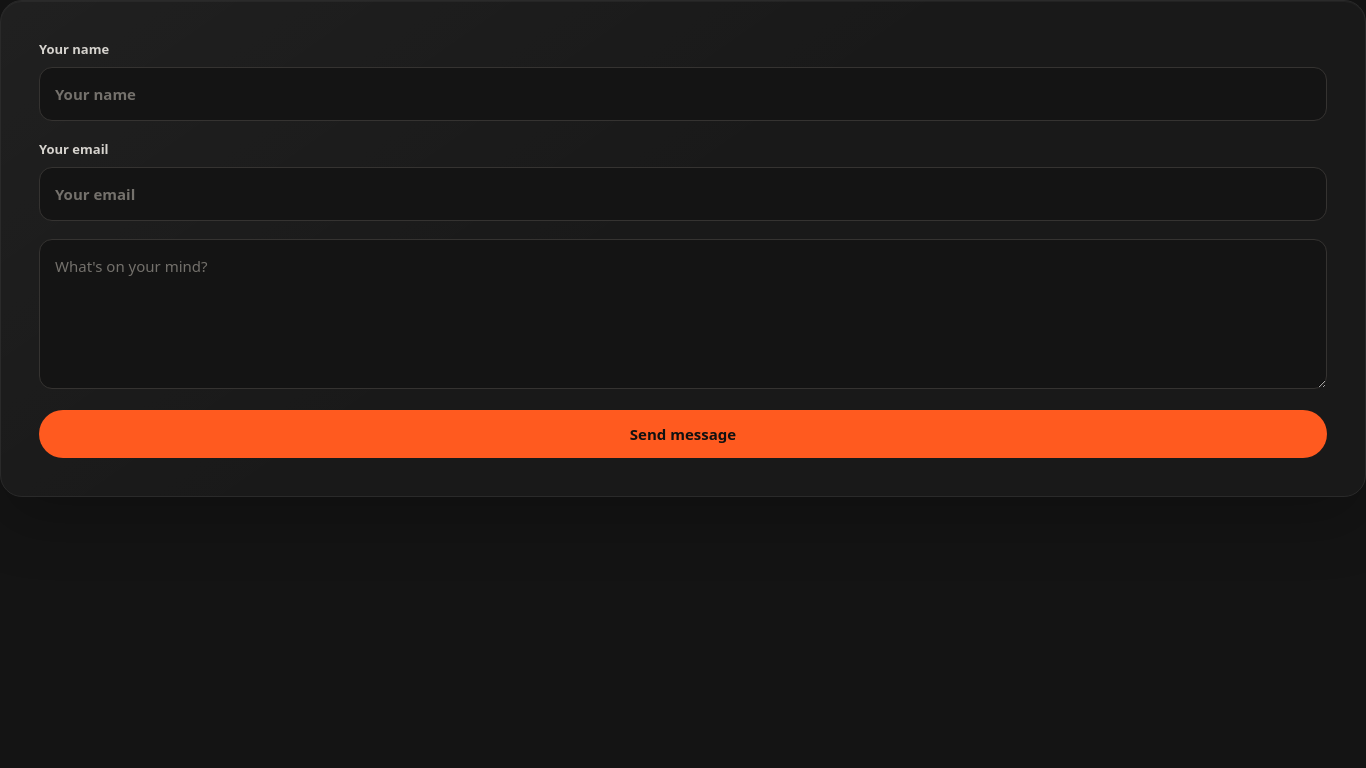
it: ContactForm › shows a failure when the message could not be saved
Type "Ada" into the field with placeholder "Your name" at (683,94), box x1=39 y1=67 x2=1327 y2=121
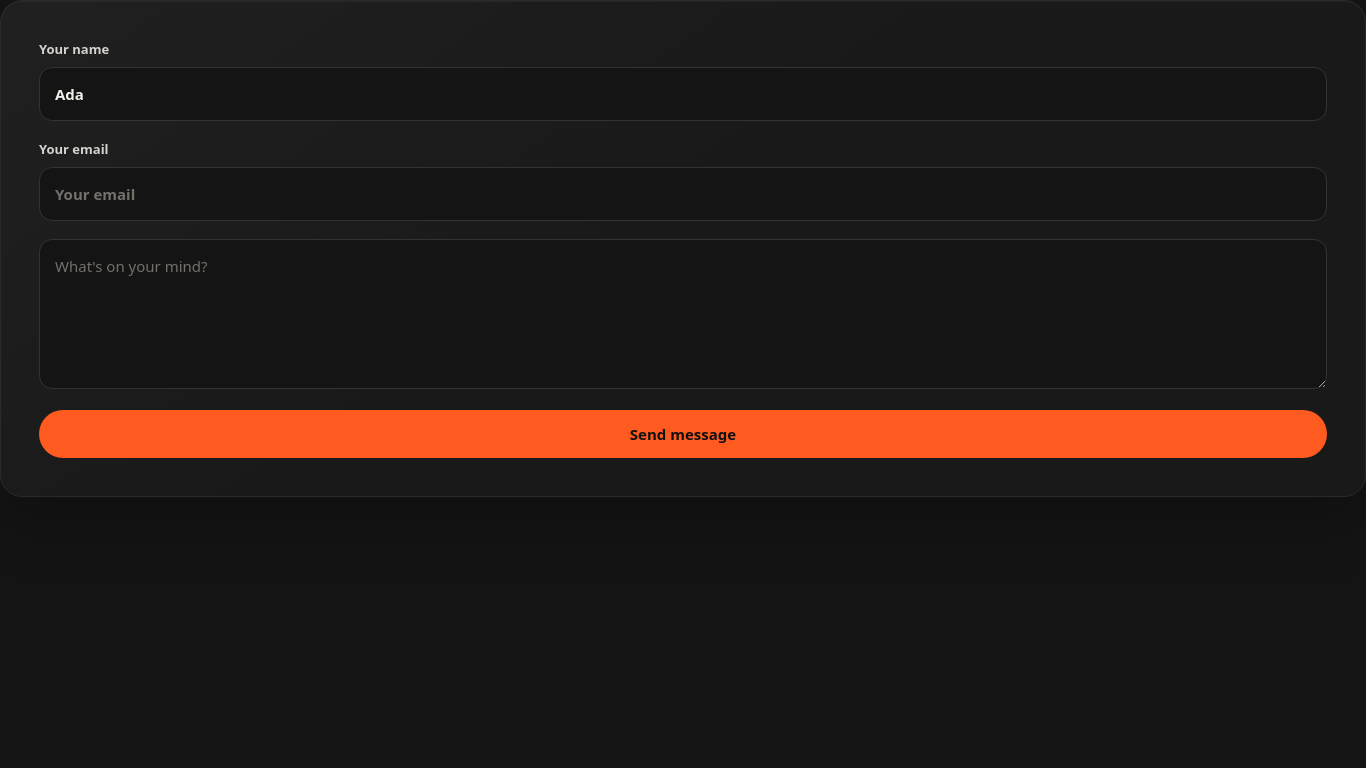
Type "ada@example.com" into the field with placeholder "Your email" at (683,194), box x1=39 y1=167 x2=1327 y2=221
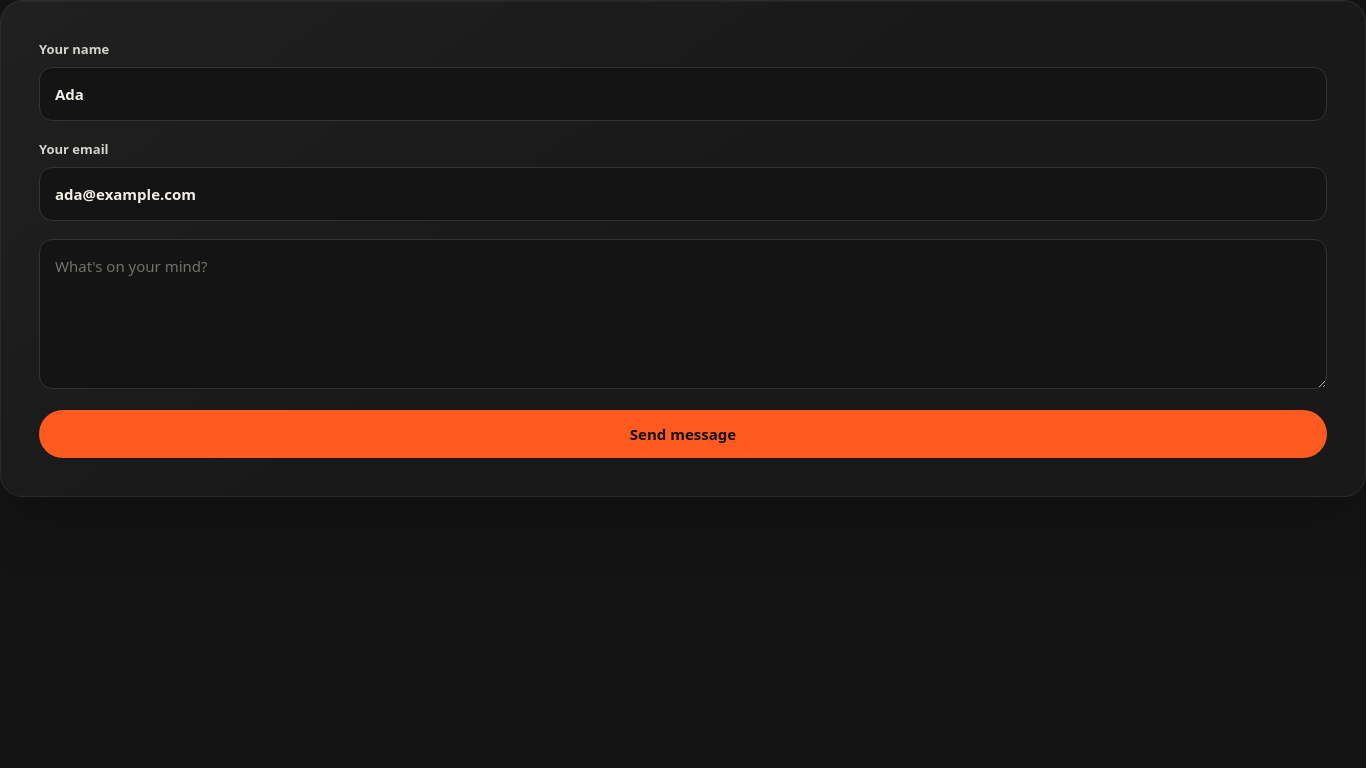
Type "Hello" into the text box with placeholder "What's on your mind?" at (683,314), box x1=39 y1=239 x2=1327 y2=389
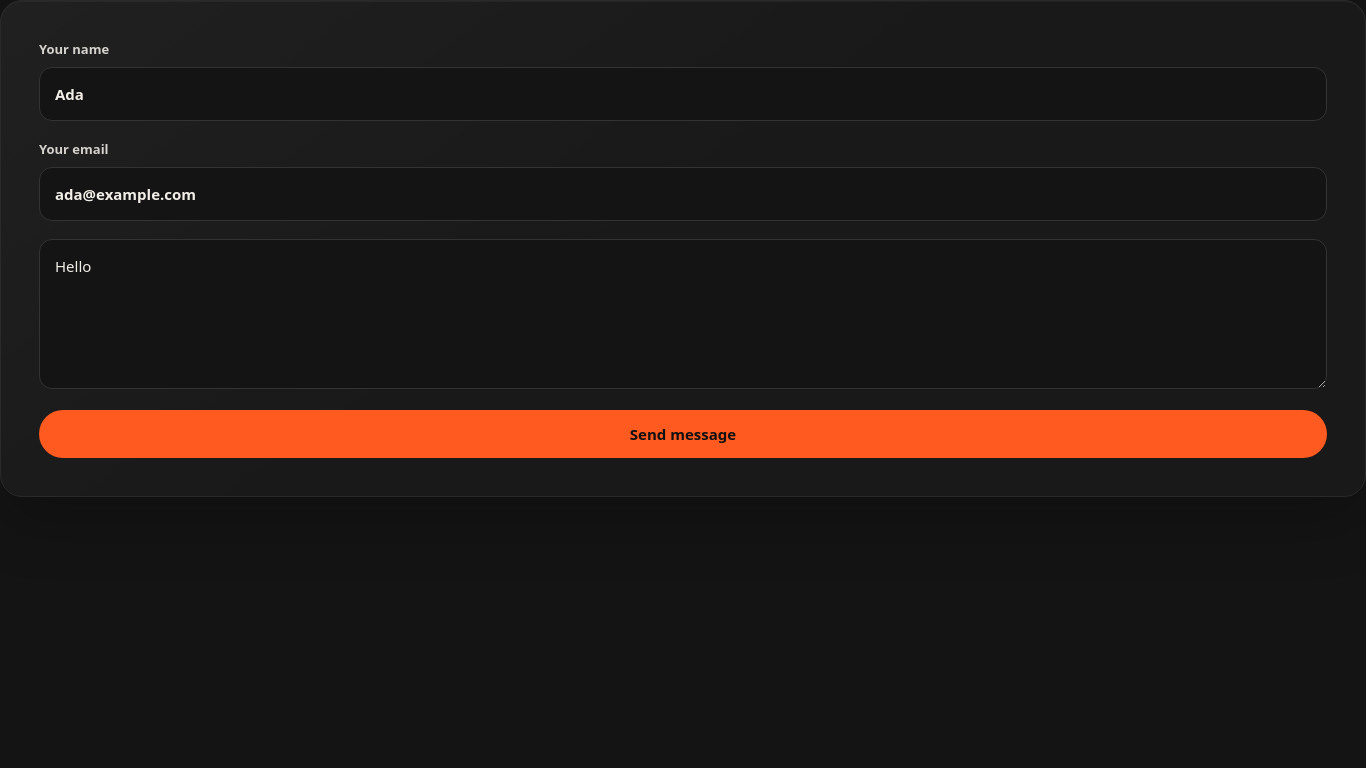
Click the button "Send message" at (683,434), box x1=39 y1=410 x2=1327 y2=458
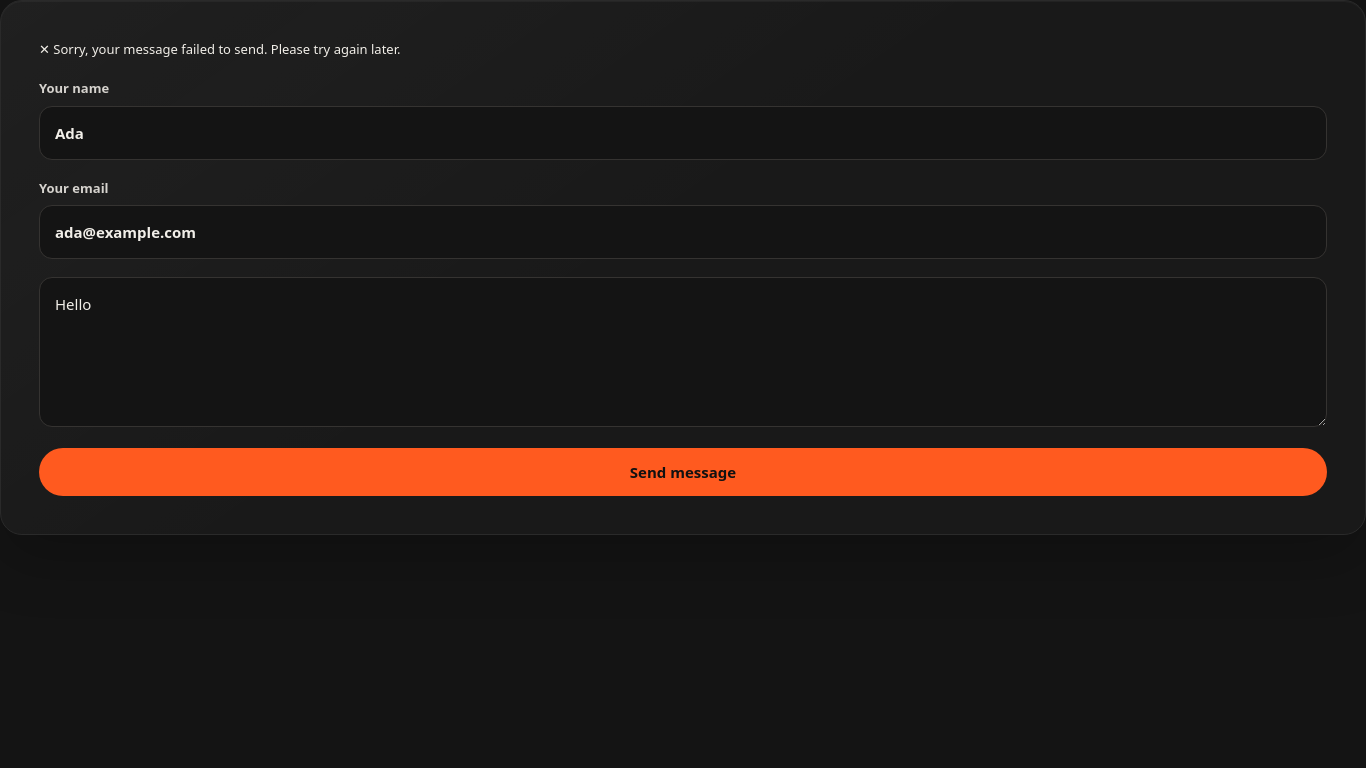
Expected: the message shows "message failed to send", x1=39 y1=40 x2=400 y2=58
